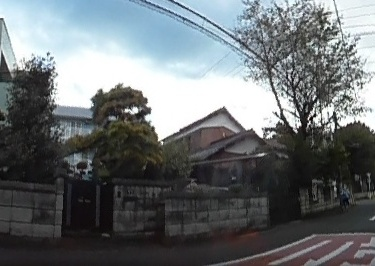person: (339, 182, 351, 211)
